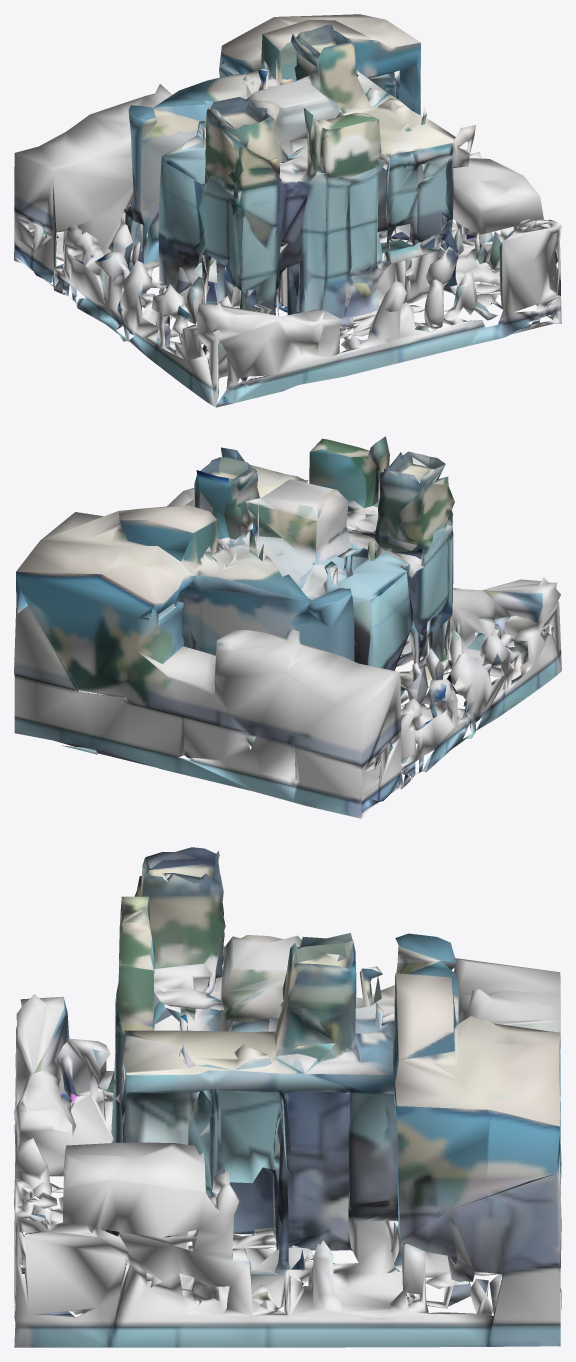
File: sigil_foundry.glb
The picture shows the model from 3 angles, top to bottom: view 1: azimuth 30°, elevation 25°; view 2: azimuth 150°, elevation 25°; view 3: azimuth 270°, elevation 25°; orthographic projection. The views are drawn at different scales.
Visible parts, largest first — view 1: LP_baked; view 2: LP_baked; view 3: LP_baked.
Part boxes in pixels (x1=…): LP_baked: x1=14, y1=14, x2=561, y2=407; LP_baked: x1=14, y1=436, x2=561, y2=818; LP_baked: x1=14, y1=847, x2=561, y2=1347.
Size of the model in its own units: 1.96 by 1.25 by 1.95.
Materials: 1 (1 with a texture image).
